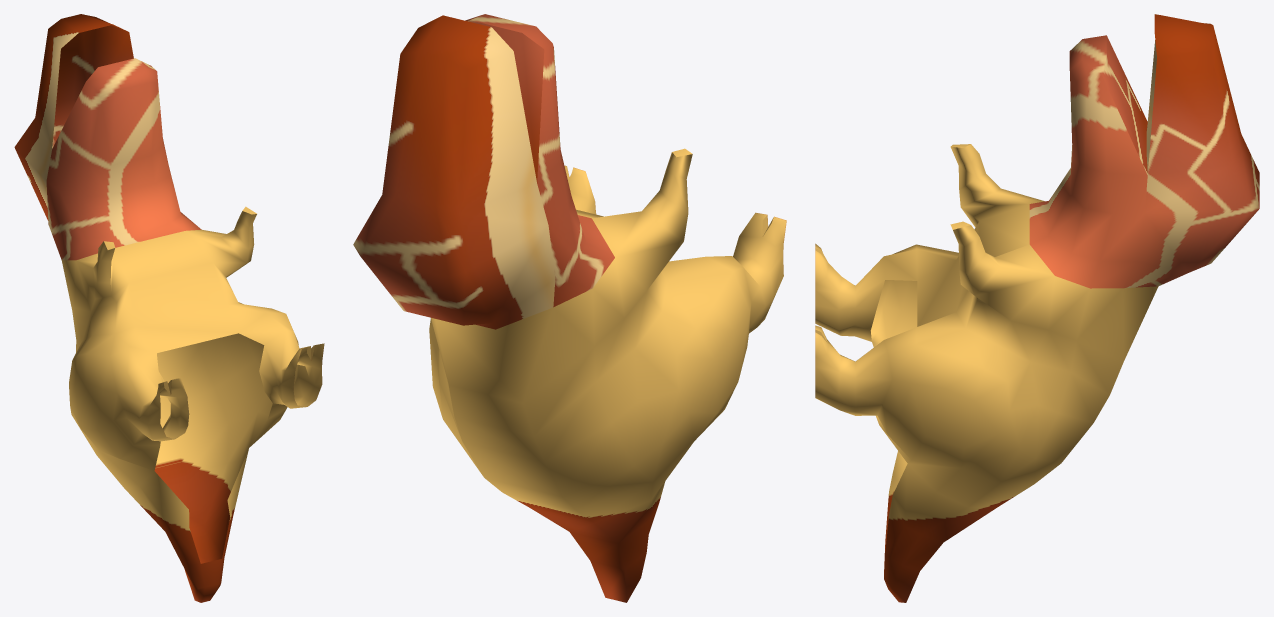
Rendered from TRex.fbx.
3 views of the same model, side by side, from view 1: azimuth 30°, elevation 25°; view 2: azimuth 150°, elevation 25°; view 3: azimuth 270°, elevation 25° (orthographic). The views are drawn at different scales.
Visible parts, largest first — view 1: Rex; view 2: Rex; view 3: Rex.
Part boxes in pixels (x1=…): Rex: x1=14, y1=14, x2=324, y2=602; Rex: x1=353, y1=14, x2=786, y2=602; Rex: x1=815, y1=14, x2=1259, y2=602.
Size of the model in its own units: 362 by 849 by 594.
